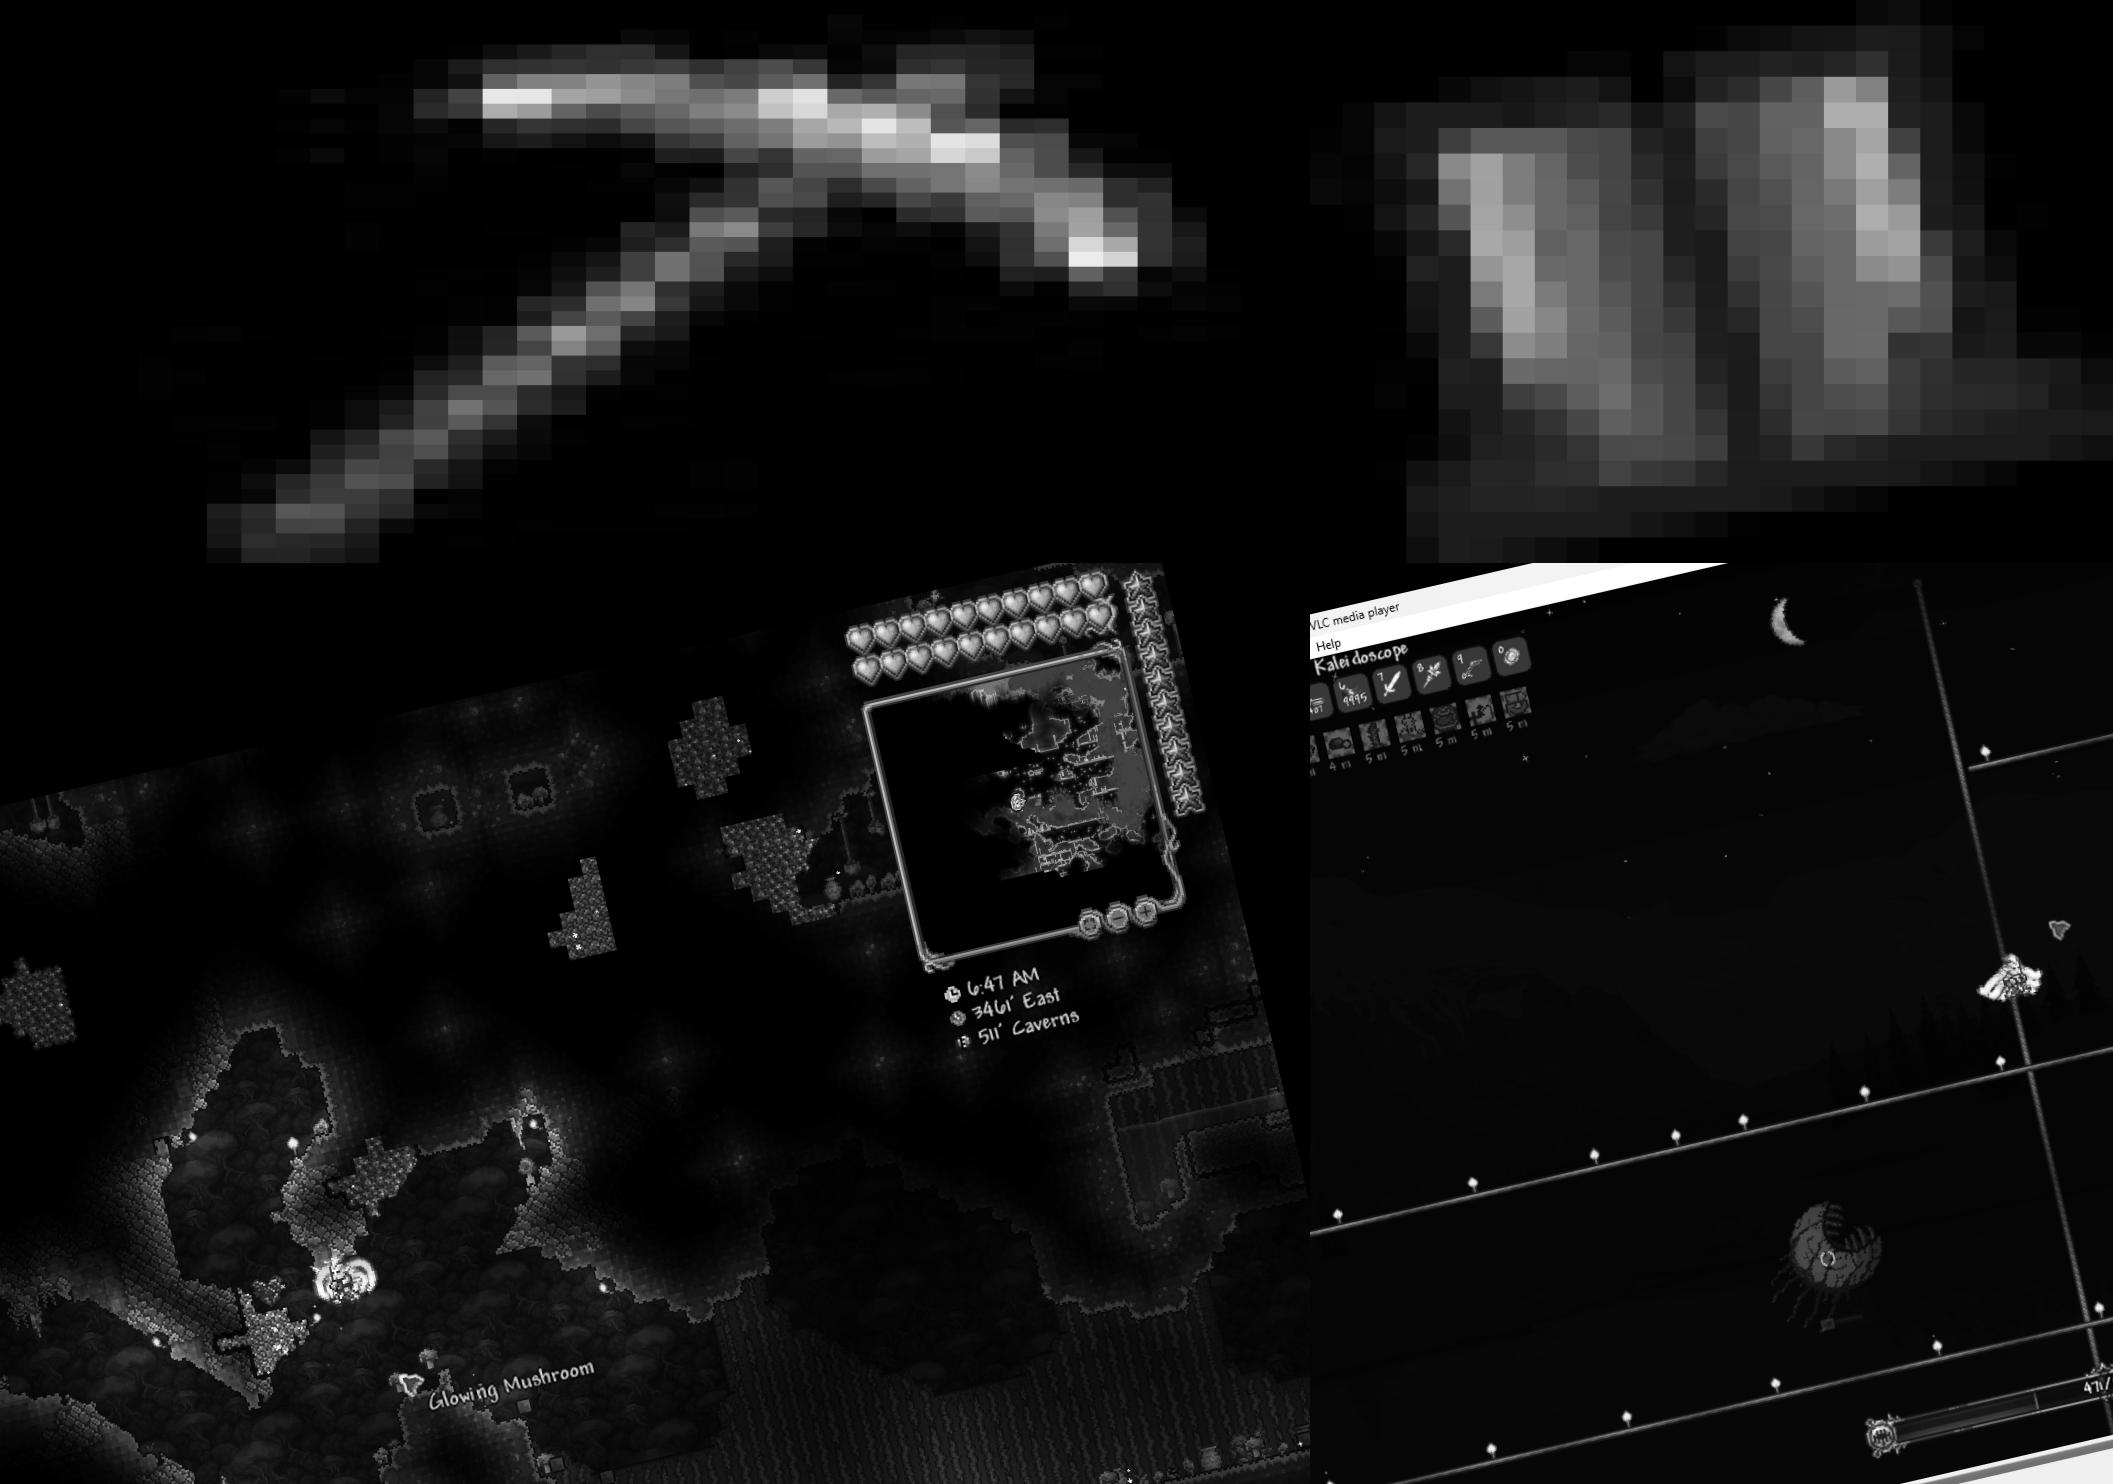eyeC: (1747, 1179, 1901, 1339)
legs: (1310, 0, 2113, 564)
lifeC: (247, 1272, 297, 1319)
pickaxe: (0, 0, 1310, 564)
